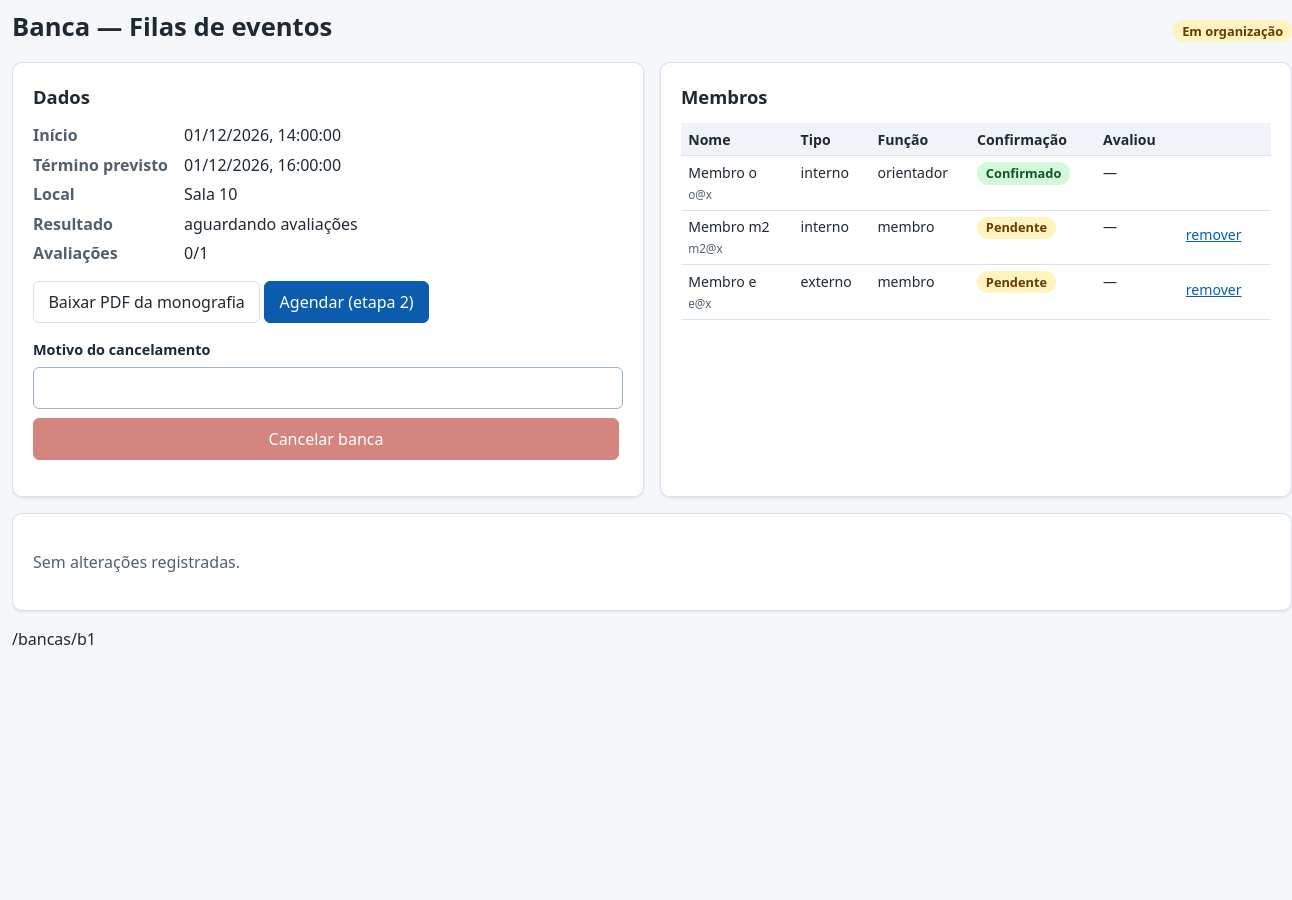
Test: Detalhe da banca › agendar com confirmações pendentes mostra quem falta
Click the button "Agendar (etapa 2)".
click(347, 302)  # box 264,281 -> 429,323
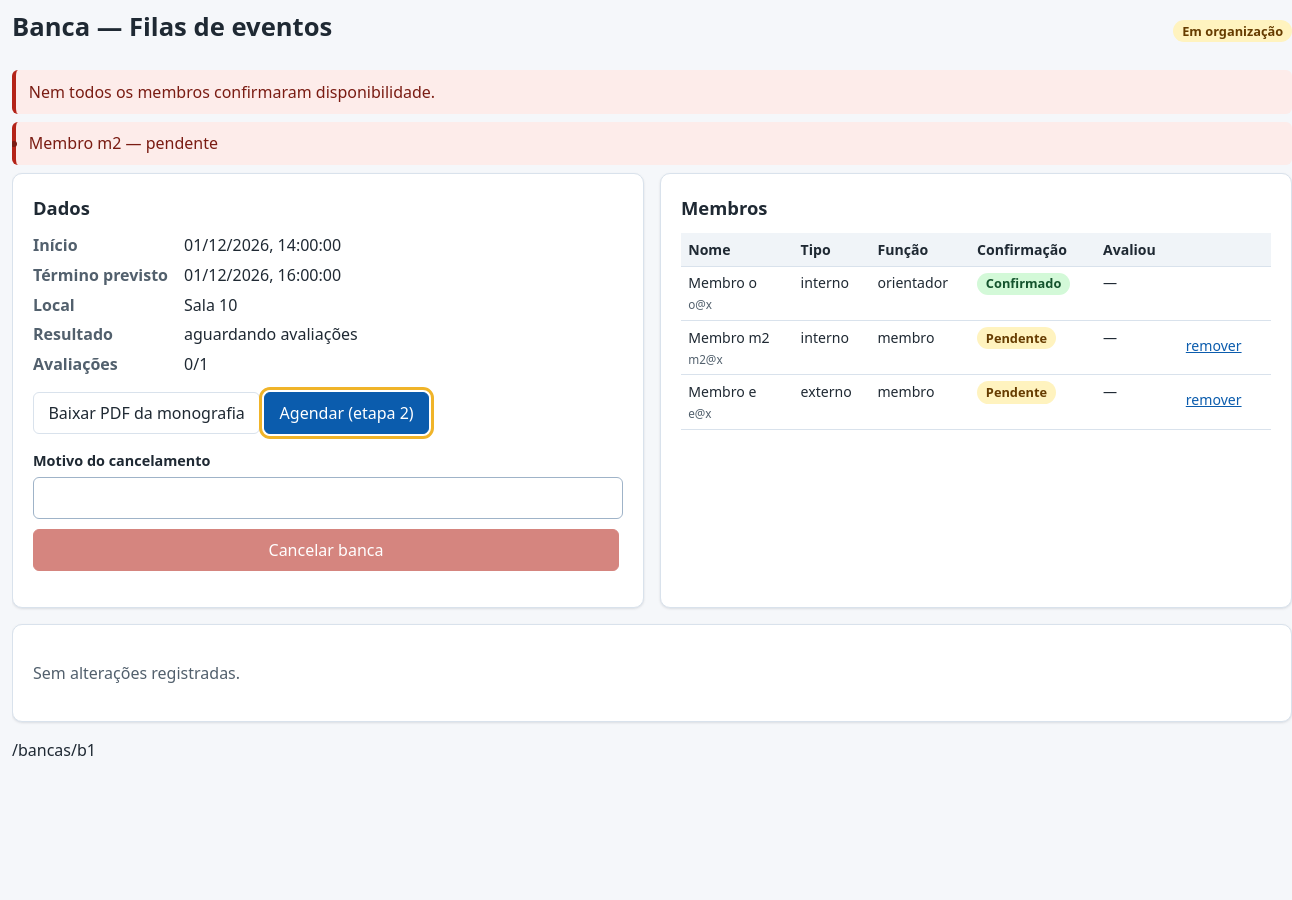
Expected: the text "Nem todos os membros confirmaram disponibilidade." is shown, 12,70 -> 1291,114
Expected: the list item "Membro m2 — pendente" is shown, 29,132 -> 218,154
